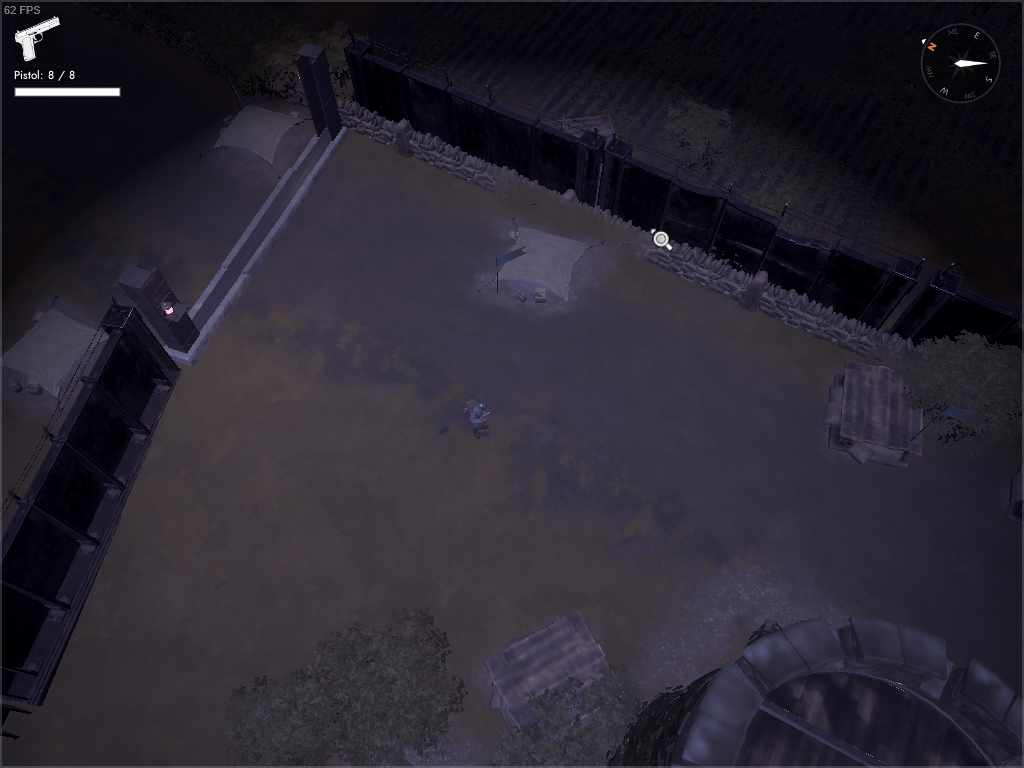fortified_wall: (1, 290, 185, 711), (597, 127, 931, 350), (340, 26, 609, 212), (881, 252, 1024, 372), (1, 698, 36, 744)
foxhole: (467, 209, 614, 326), (1, 291, 123, 420), (181, 85, 329, 182)
lowered_gate: (113, 41, 361, 372)
pillbox: (474, 603, 632, 754), (818, 351, 982, 483), (527, 104, 629, 174)
player: (459, 396, 494, 442)
